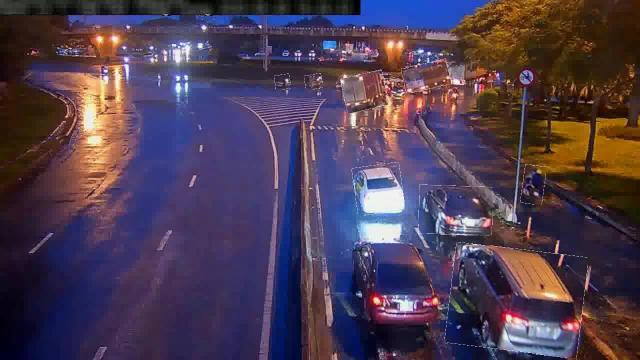Bike: (521, 165, 545, 204), (305, 74, 323, 90), (274, 74, 290, 90)
Car: (446, 246, 586, 354), (351, 239, 437, 325), (419, 186, 493, 234), (353, 164, 403, 214)
Truck: (342, 72, 388, 112), (402, 61, 450, 91)
